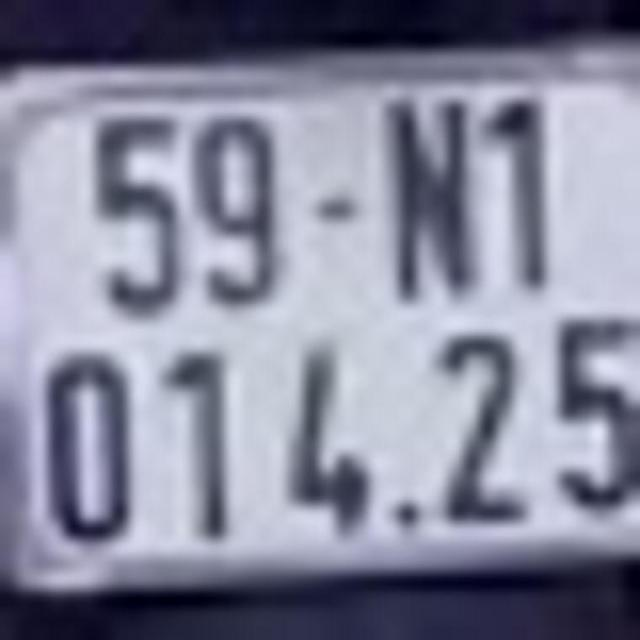0: (43, 350, 133, 544)
1: (483, 92, 560, 311), (162, 346, 226, 541)
2: (439, 324, 532, 527)
4: (284, 343, 375, 539)
5: (97, 115, 183, 320), (556, 320, 640, 516)
9: (192, 115, 278, 306)
N: (380, 88, 478, 306)
